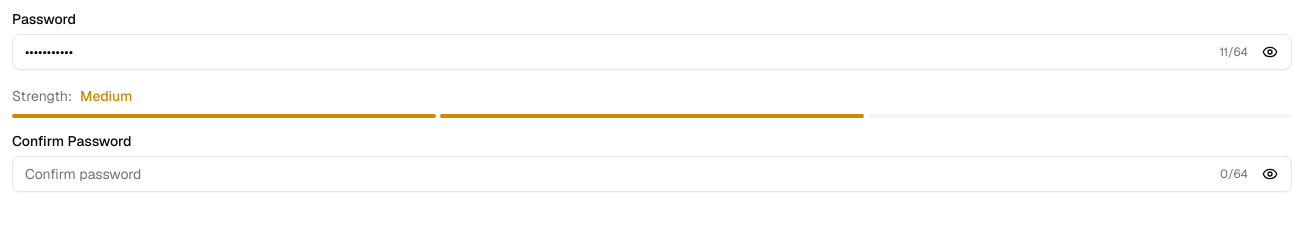
Test case: PasswordInput › validates password match
// Type mismatching password
Type "different123" into the password field labelled "Confirm Password". click: (652, 174)
box: [12,156,1292,192]
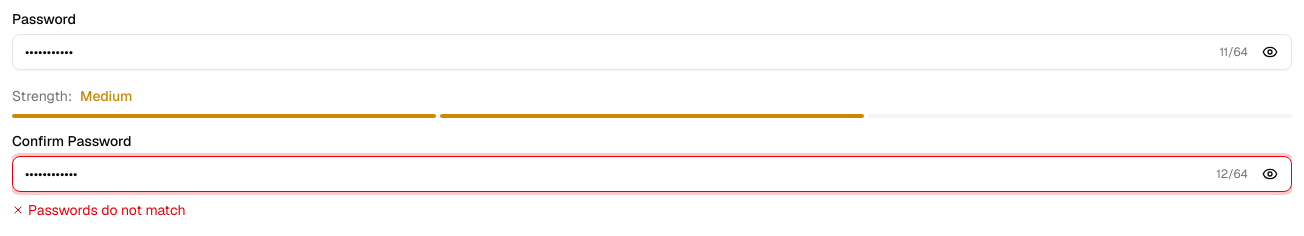
Result: the text "Passwords do not match" is shown at [12,201,186,219]
// Clear and type matching password
Type "password123" into the password field labelled "Confirm Password". click: (652, 174)
box: [12,156,1292,192]
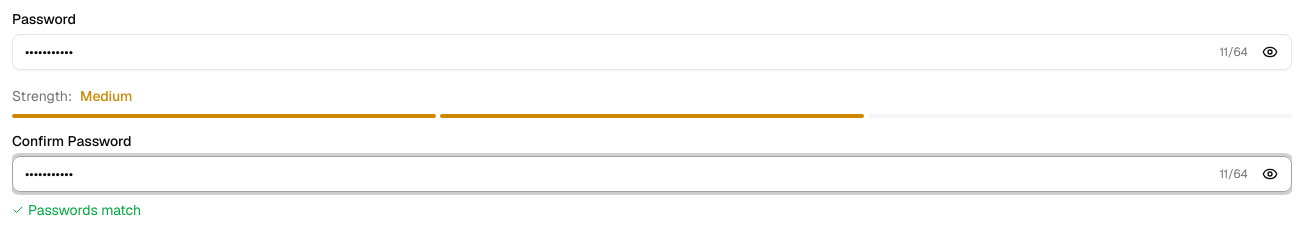
Result: the text "Passwords match" is shown at [12,201,141,219]
